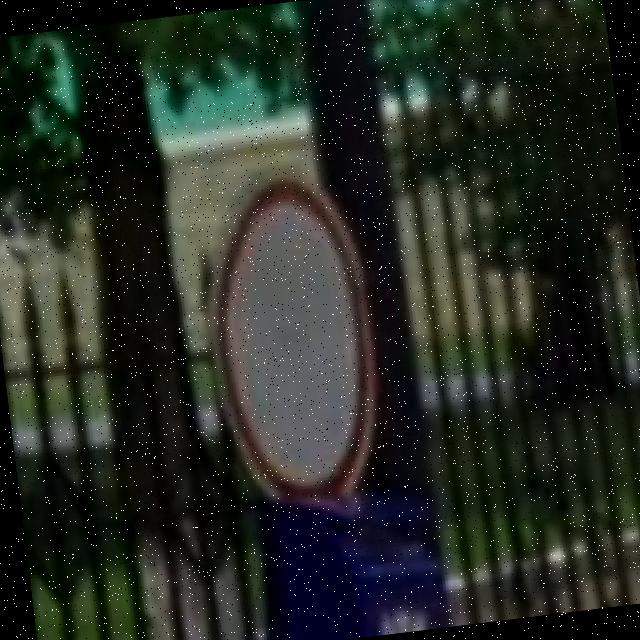Zakaz ruchu w obu kierunkach: (188, 158, 393, 516)
